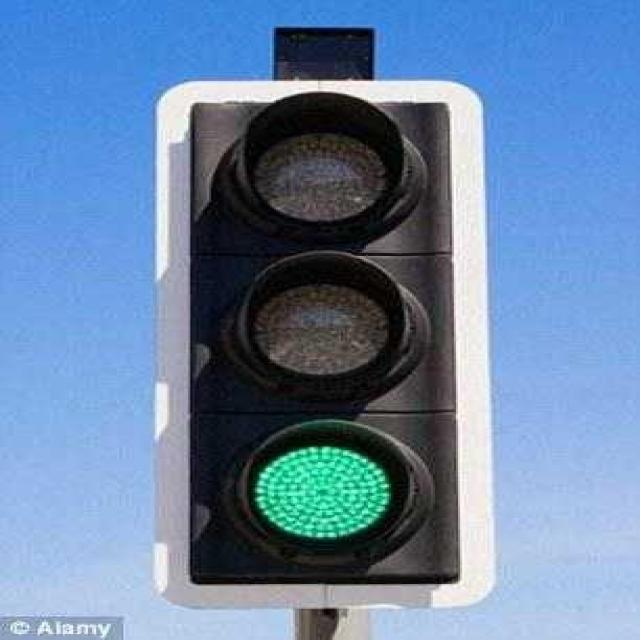Traffic Light -Green-: (178, 84, 456, 578)
